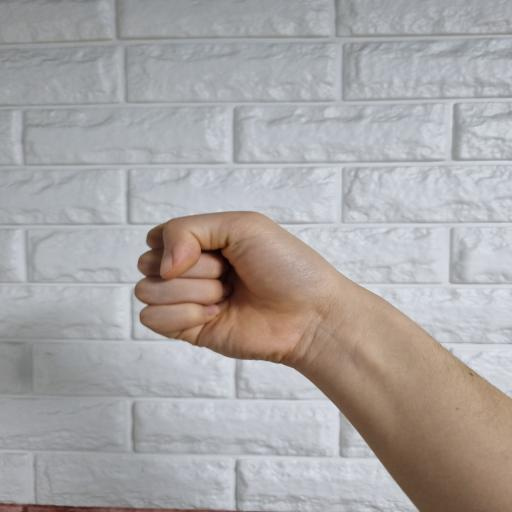Rock: (134, 210, 348, 363)
